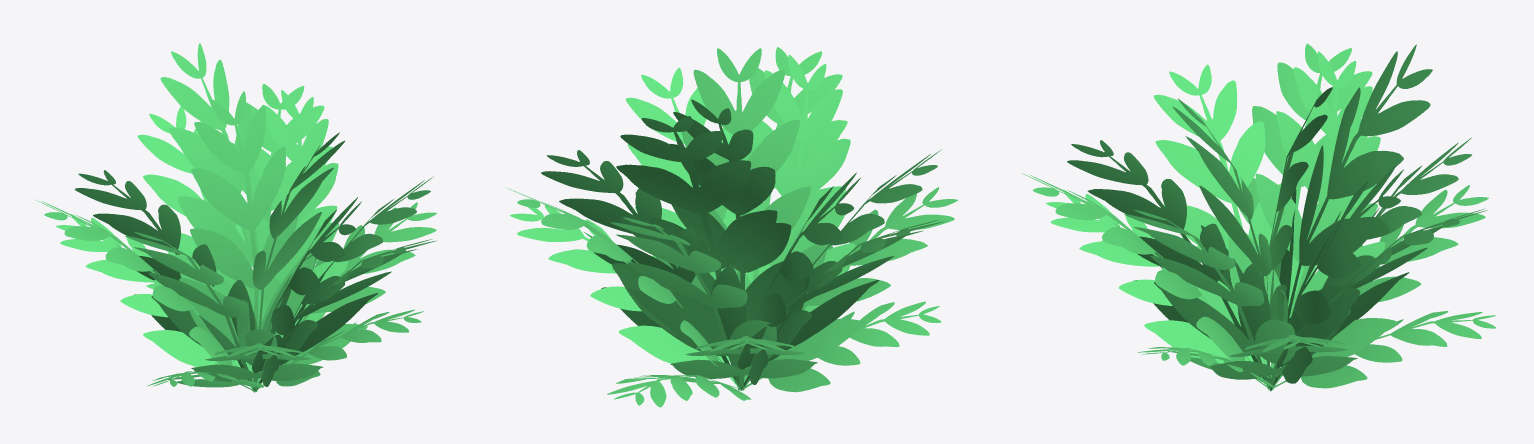
File: Bush2.fbx
3 renders of one model, left to right at view 1: azimuth 30°, elevation 25°; view 2: azimuth 150°, elevation 25°; view 3: azimuth 270°, elevation 25°, orthographic. The views are drawn at different scales.
Parts seen in each view (by area): view 1: Bush 2; view 2: Bush 2; view 3: Bush 2.
Part boxes in pixels (left/top/right/bottom): Bush 2: left=36, top=43, right=436, bottom=392; Bush 2: left=506, top=47, right=957, bottom=407; Bush 2: left=1022, top=43, right=1496, bottom=391.
Bounding box in the file's own units: 135 × 110 × 129.
